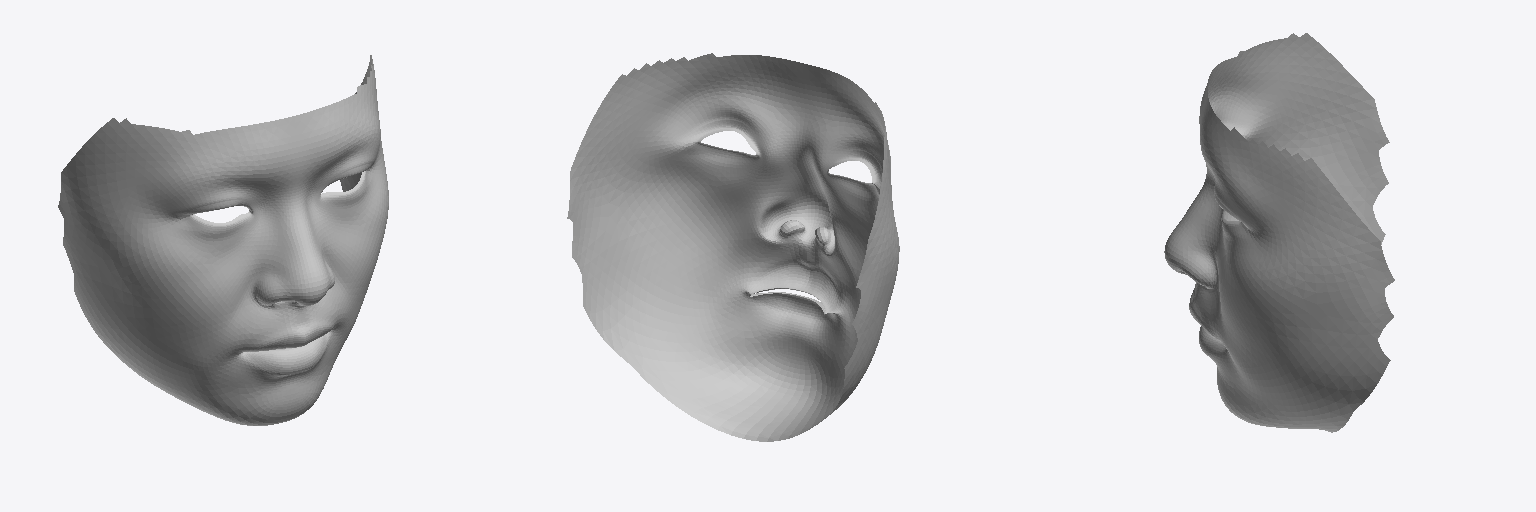
Rendered from mean_shape.obj.
3 renders of one model, left to right at view 1: azimuth 30°, elevation 25°; view 2: azimuth 150°, elevation 25°; view 3: azimuth 270°, elevation 25°, orthographic.
Size of the model in its own units: 15.86 by 17.19 by 10.78.